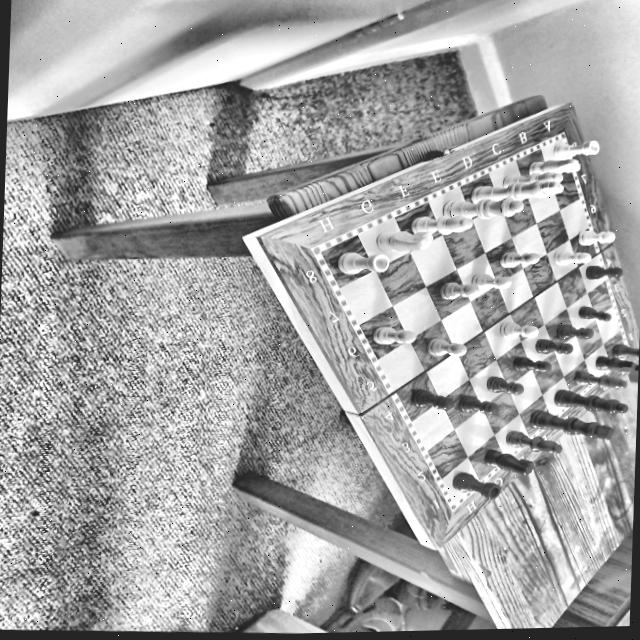black-bishop: (504, 426, 561, 455), (574, 367, 626, 390)
black-king: (526, 405, 615, 439)
black-knight: (484, 446, 534, 475), (590, 352, 638, 374)
black-pawn: (411, 385, 454, 411), (460, 393, 498, 415), (512, 353, 552, 373), (487, 373, 524, 394), (578, 301, 614, 321), (556, 321, 596, 339), (585, 261, 624, 279), (536, 336, 574, 354)
black-queen: (554, 384, 628, 416)
black-rook: (449, 468, 500, 502), (611, 340, 639, 358)
white-bishop: (412, 210, 472, 233), (500, 169, 564, 186)
white-king: (472, 180, 562, 199)
white-knight: (374, 227, 434, 250), (527, 153, 582, 174)
white-pawn: (369, 320, 418, 346), (424, 332, 469, 359), (440, 279, 481, 300), (576, 225, 618, 245), (498, 249, 542, 267), (552, 247, 594, 265), (500, 318, 539, 337), (472, 271, 512, 288)
white-queen: (442, 193, 525, 220)
white-rook: (336, 247, 392, 275), (552, 136, 602, 158)
